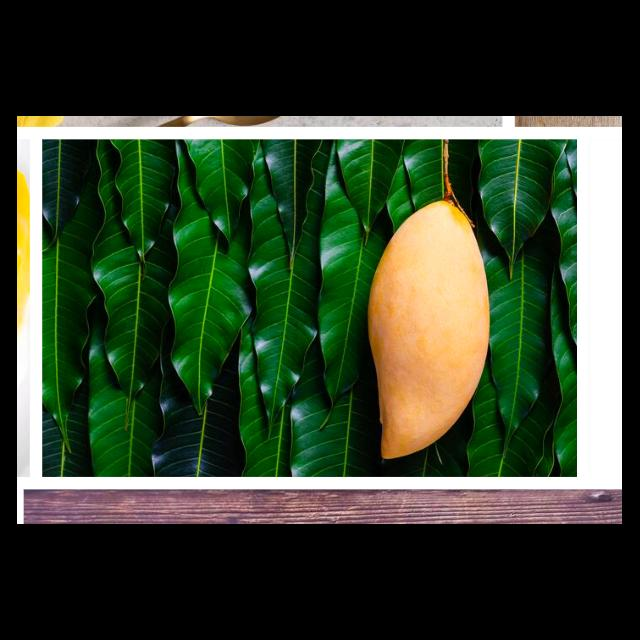mango: (364, 201, 492, 460)
